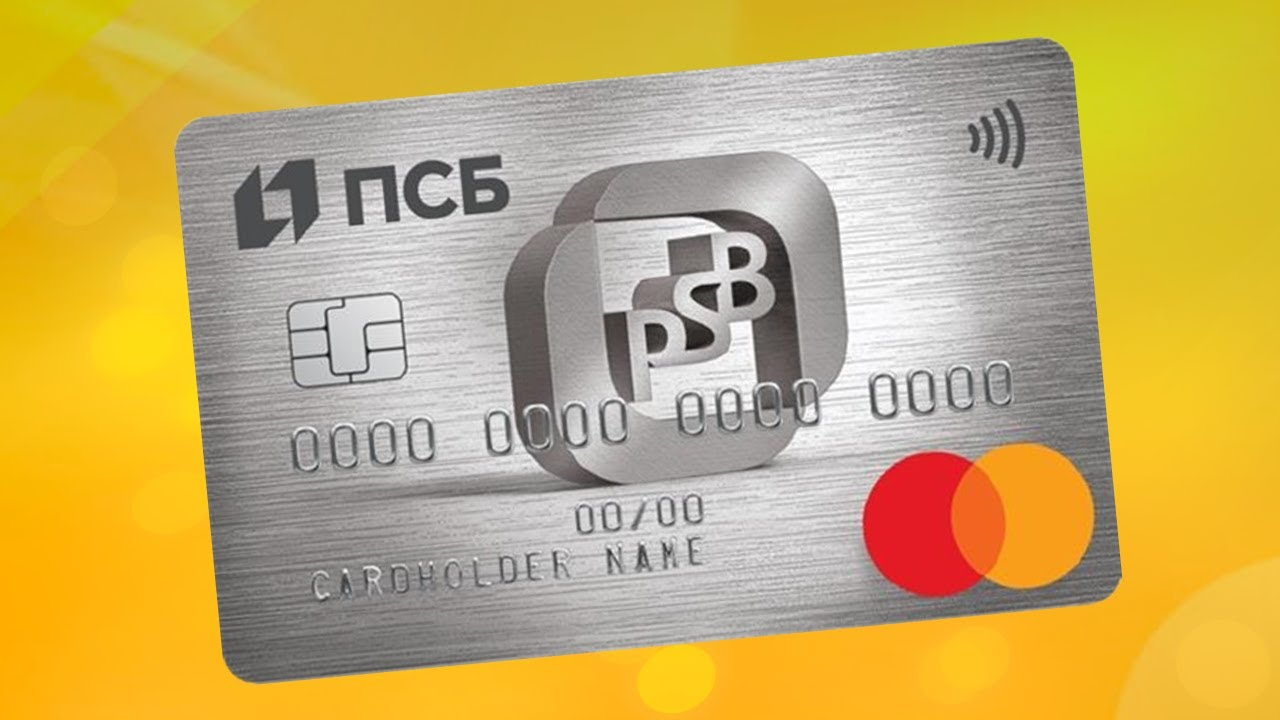card: (173, 36, 1125, 683)
